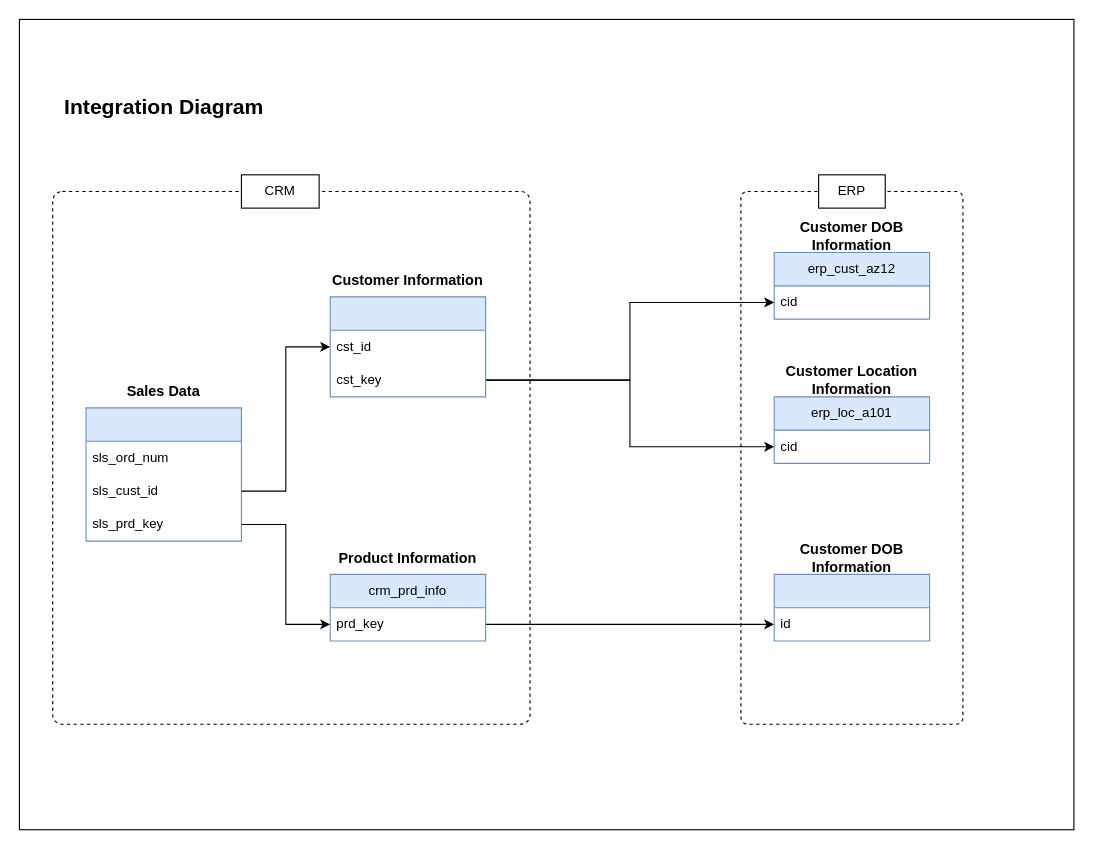
The diagram is 1093 pixels wide and 849 high, and some of its shapes have lost their labels. Each missing label, with the box of its shape:
crm_cust_info: (329, 296, 486, 397)
crm_sales_details: (85, 407, 241, 541)
erp_px_cat_g1v2: (773, 573, 930, 641)
